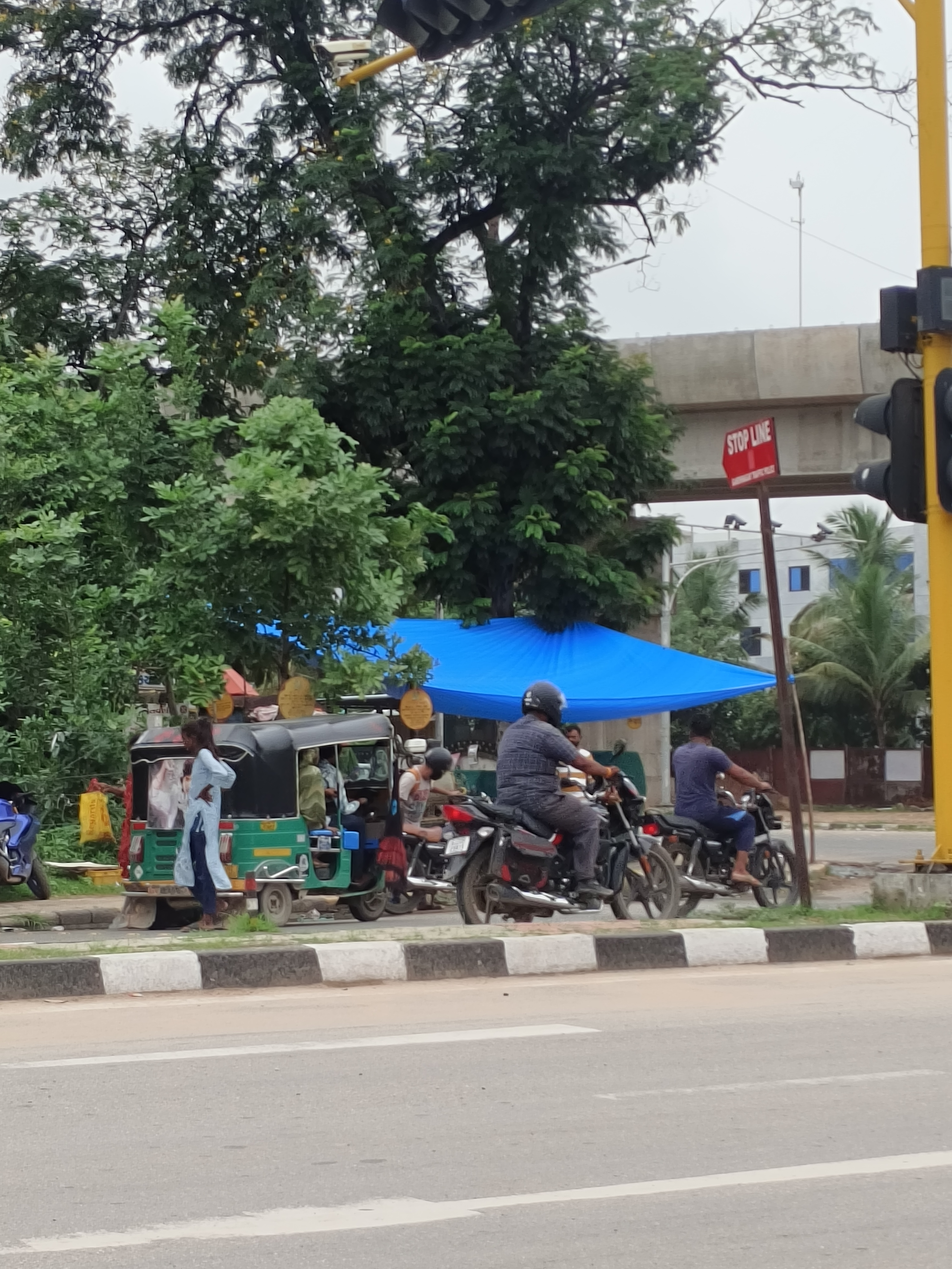BikeWithRider: (428, 673, 686, 934), (637, 716, 807, 921)
Helmet: (515, 674, 574, 730), (418, 740, 463, 782)
